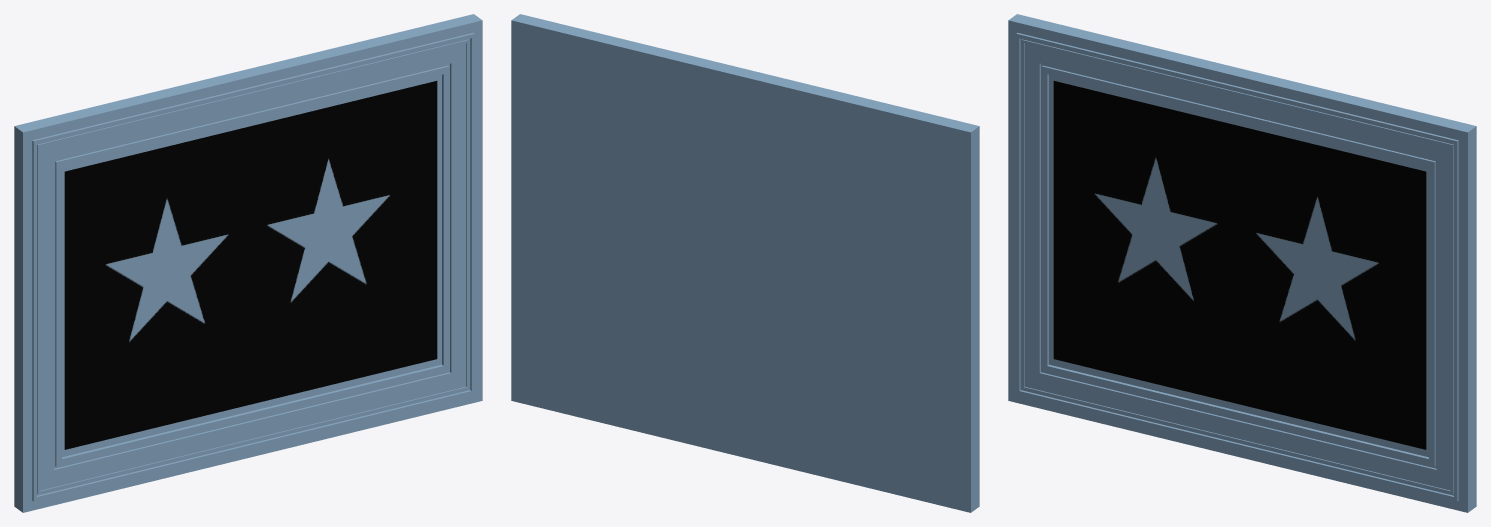
File: Cuadro.obj
The picture shows the model from 3 angles, left to right: view 1: azimuth 30°, elevation 25°; view 2: azimuth 150°, elevation 25°; view 3: azimuth 330°, elevation 25°; orthographic projection.
Parts seen in each view (by area): view 1: objPainting:Painting; view 2: objPainting:Painting; view 3: objPainting:Painting.
Part boxes in pixels (<box>): objPainting:Painting: <box>14,14,482,512</box>; objPainting:Painting: <box>511,14,979,512</box>; objPainting:Painting: <box>1008,14,1476,512</box>.
Bounding box in the file's own units: 69.91 × 55.32 × 2.65.
Materials: 2 (2 with a texture image).
